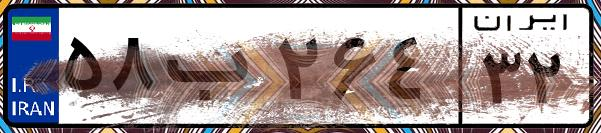2: (270, 28, 330, 110), (525, 38, 570, 115)
3: (475, 38, 525, 113)
4: (385, 28, 445, 110)
5: (57, 26, 110, 100)
6: (330, 28, 385, 110)
8: (110, 28, 158, 98)
ب: (158, 20, 270, 120)
